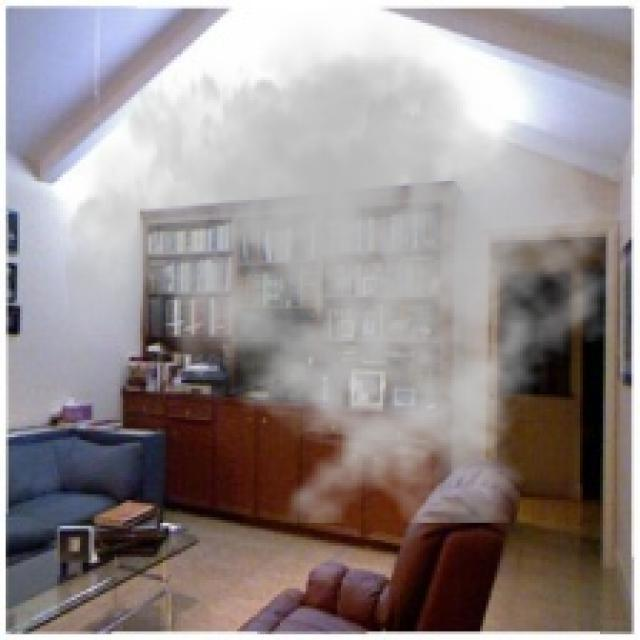Smoke: (63, 3, 632, 523)
